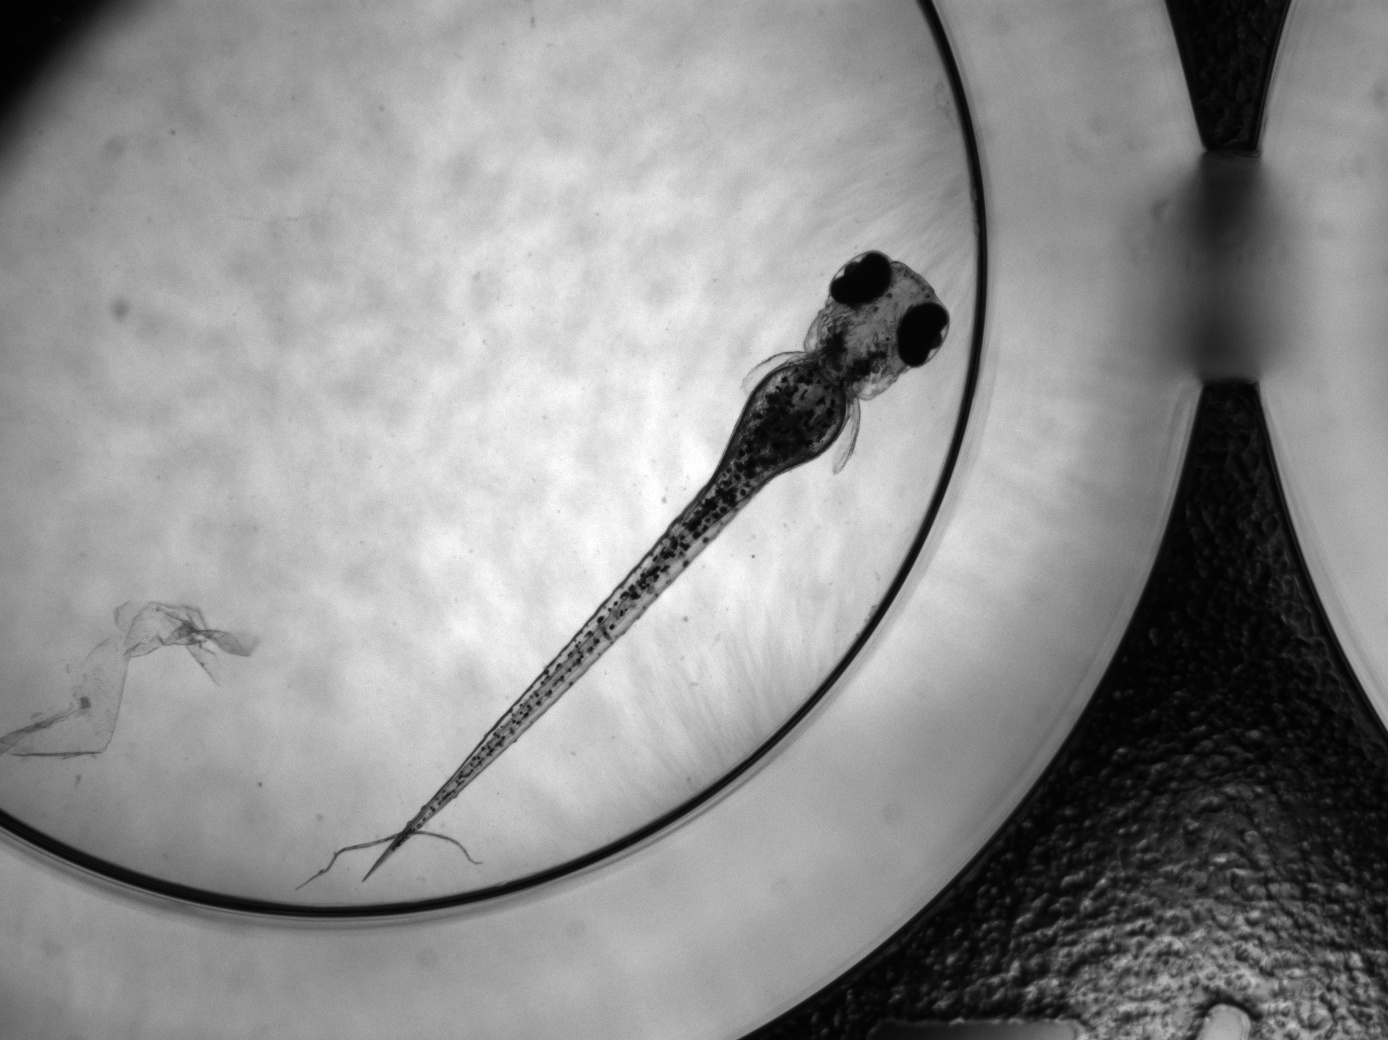debris: (1, 596, 256, 763)
embryo: (361, 251, 949, 884)
eye: (827, 250, 892, 308), (894, 302, 949, 368)
yolksac: (742, 359, 845, 466)
